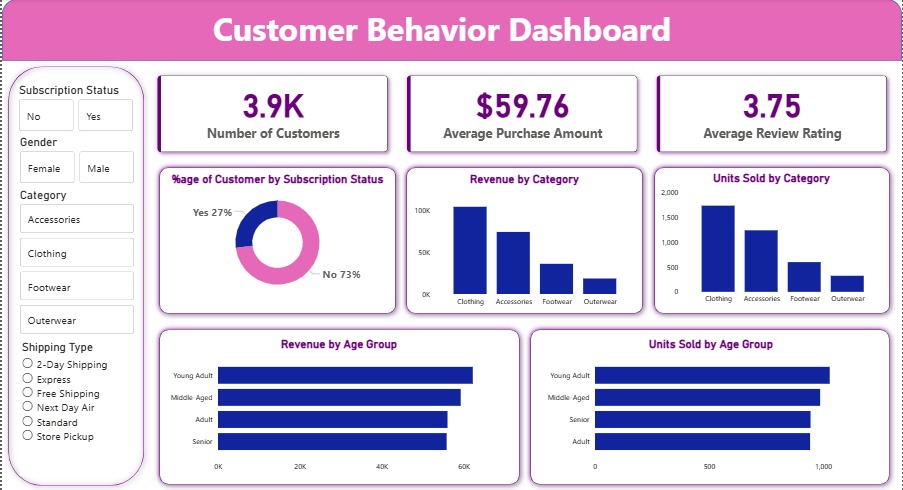

The dashboard page shown, as its layout file describes it:
{"tool":"powerbi","page":{"name":"Page 1","canvas":[1500,820],"ordinal":0},"visuals":[{"type":"cardVisual","fields":{"Data":["customer.Number of Customers","customer.Average Purchase Amount","customer.Average Review Rating"]},"box":[235,103.3,1265,176.7],"z":0},{"type":"shape","box":[1077.8,271.5,410.5,261.7],"z":0},{"type":"shape","box":[0,0,1500,103.3],"z":1000},{"type":"clusteredColumnChart","title":"Units Sold by Category","fields":{"Category":["customer.category"],"Y":["CountNonNull(customer.customer_id)"]},"box":[1093.5,286.7,379,231.4],"z":1000},{"type":"textbox","box":[345,6.7,776.7,96.7],"z":2000},{"type":"shape","box":[2,103,244,717],"z":3000},{"type":"shape","box":[253.3,271.5,412.2,261.7],"z":3000},{"type":"donutChart","title":"%age of Customer by Subscription Status","fields":{"Category":["customer.subscription_status"],"Y":["CountNonNull(customer.customer_id)"]},"box":[266.7,288.3,385,213.3],"z":4000},{"type":"shape","box":[253.3,541.7,618.3,276.7],"z":4000},{"type":"shape","box":[665.6,271.5,412.2,261.7],"z":5000},{"type":"advancedSlicerVisual","title":"Subscription Status","fields":{"Values":["customer.subscription_status"]},"box":[23.3,140,200,85],"z":6000},{"type":"advancedSlicerVisual","title":"Gender","fields":{"Values":["customer.gender"]},"box":[25,226.7,200,85],"z":7000},{"type":"clusteredColumnChart","title":"Revenue by Category","fields":{"Category":["customer.category"],"Y":["Sum(customer.purchase_amount)"]},"box":[681.7,288.3,378.3,233.3],"z":8000},{"type":"advancedSlicerVisual","title":"Category","fields":{"Values":["customer.category"]},"box":[25,315,200,248.3],"z":9000},{"type":"listSlicer","fields":{"Values":["customer.shipping_type"]},"box":[29.4,568.1,171.5,226.9],"z":10000},{"type":"barChart","title":"Revenue by Age Group","fields":{"Category":["customer.age_group"],"Y":["Sum(customer.purchase_amount)"]},"box":[270,563.3,583.3,233.3],"z":13000},{"type":"shape","box":[871.7,541.7,616.7,276.7],"z":14000},{"type":"barChart","title":"Units Sold by Age Group","fields":{"Category":["customer.age_group"],"Y":["CountNonNull(customer.purchase_amount)"]},"box":[898.3,563.3,566.7,233.3],"z":15000}]}

Visuals, with their boxes in screenshot pixels (x1, y1, x2, y2), scaled from the page's 1500x820 canvas onto the 903x490 screenshot:
cardVisual - customer.Number of Customers x customer.Average Purchase Amount: [x1=141, y1=62, x2=902, y2=167]
shape: [x1=649, y1=162, x2=896, y2=319]
shape: [x1=0, y1=0, x2=902, y2=62]
"Units Sold by Category" clusteredColumnChart: [x1=658, y1=171, x2=886, y2=310]
textbox: [x1=208, y1=4, x2=675, y2=62]
shape: [x1=1, y1=62, x2=148, y2=489]
shape: [x1=152, y1=162, x2=401, y2=319]
"%age of Customer by Subscription Status" donutChart: [x1=161, y1=172, x2=392, y2=300]
shape: [x1=152, y1=324, x2=525, y2=489]
shape: [x1=401, y1=162, x2=649, y2=319]
"Subscription Status" advancedSlicerVisual: [x1=14, y1=84, x2=134, y2=134]
"Gender" advancedSlicerVisual: [x1=15, y1=135, x2=135, y2=186]
"Revenue by Category" clusteredColumnChart: [x1=410, y1=172, x2=638, y2=312]
"Category" advancedSlicerVisual: [x1=15, y1=188, x2=135, y2=337]
listSlicer - customer.shipping_type: [x1=18, y1=339, x2=121, y2=475]
"Revenue by Age Group" barChart: [x1=163, y1=337, x2=514, y2=476]
shape: [x1=525, y1=324, x2=896, y2=489]
"Units Sold by Age Group" barChart: [x1=541, y1=337, x2=882, y2=476]
